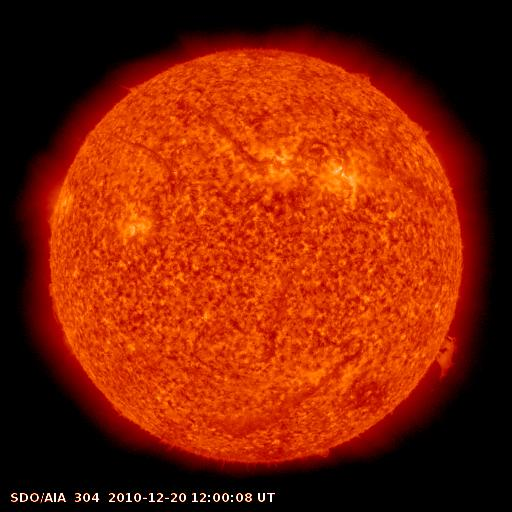prominence: (421, 322, 469, 386), (339, 56, 387, 97)
